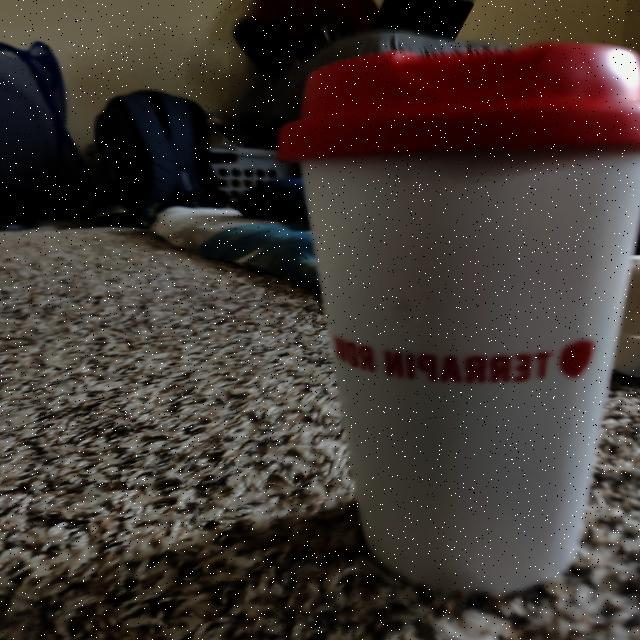mug: (266, 44, 640, 592)
